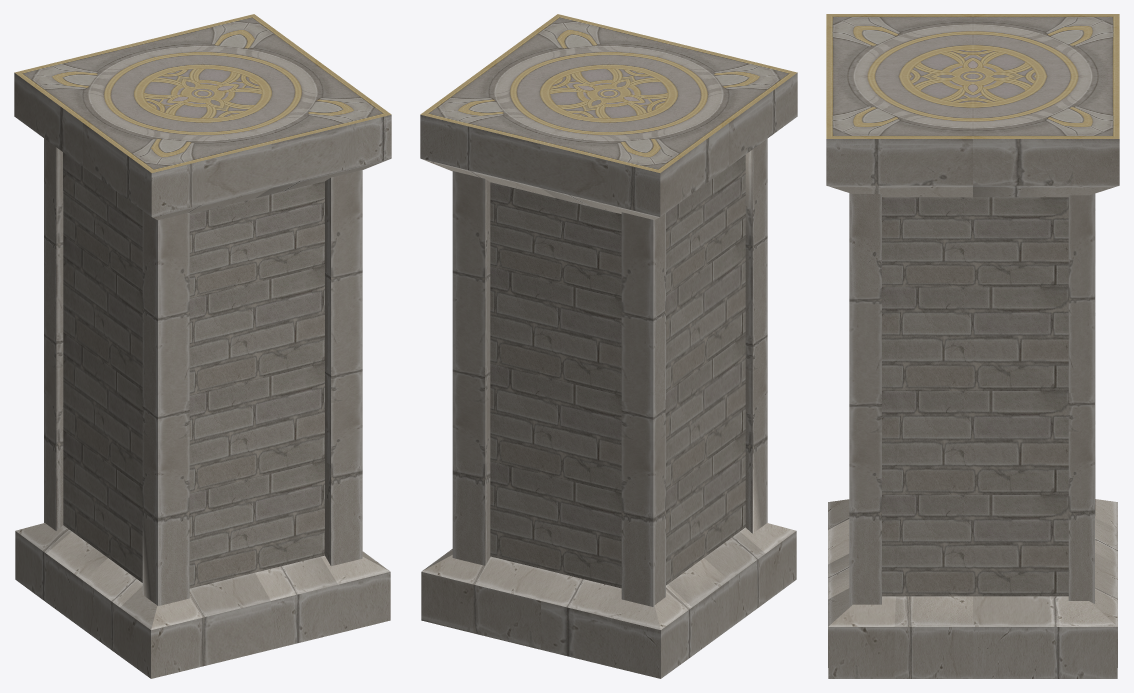
File: mod_zlc_jianzhu087_xy.FBX
3 views of the same model, side by side, from view 1: azimuth 30°, elevation 25°; view 2: azimuth 150°, elevation 25°; view 3: azimuth 270°, elevation 25° (orthographic). The views are drawn at different scales.
Parts seen in each view (by area): view 1: mod_zlc_jianzhu036_xy; view 2: mod_zlc_jianzhu036_xy; view 3: mod_zlc_jianzhu036_xy.
Boxes of the visible parts, x1,y1,x2,y2 form: mod_zlc_jianzhu036_xy: (14, 14, 391, 678); mod_zlc_jianzhu036_xy: (420, 14, 797, 678); mod_zlc_jianzhu036_xy: (826, 14, 1119, 678).
Bounding box in the file's own units: 2.01 × 4.06 × 2.
Materials: 1 (1 with a texture image).
